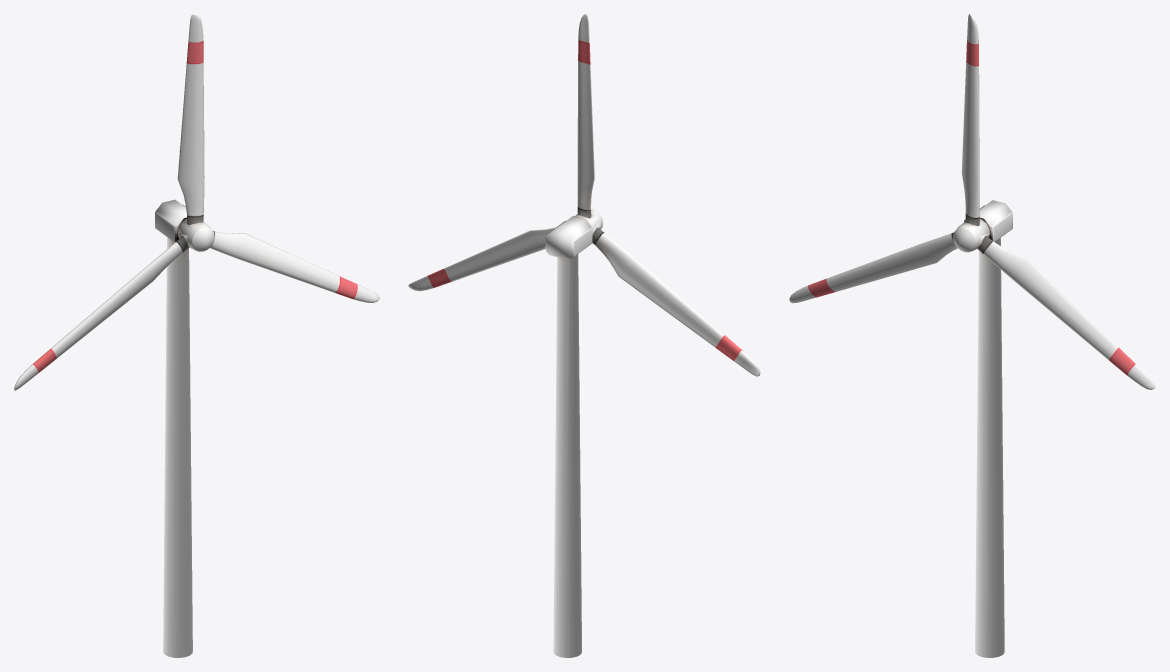
Rendered from Windmill.glb.
3 renders of one model, left to right at view 1: azimuth 30°, elevation 25°; view 2: azimuth 150°, elevation 25°; view 3: azimuth 330°, elevation 25°, orthographic. The views are drawn at different scales.
Parts seen in each view (by area): view 1: Windturbine Support, Windturbine Blades; view 2: Windturbine Support, Windturbine Blades; view 3: Windturbine Blades, Windturbine Support.
Part boxes in pixels (box(x1,y1,x2,y2)): Windturbine Support: box(155, 199, 203, 657); Windturbine Blades: box(14, 14, 379, 390); Windturbine Support: box(545, 216, 592, 657); Windturbine Blades: box(408, 14, 760, 376); Windturbine Blades: box(789, 14, 1155, 389); Windturbine Support: box(964, 200, 1012, 657).
Bounding box in the file's own units: 11.69 × 19.91 × 2.13.
1 material, 1 textured.
